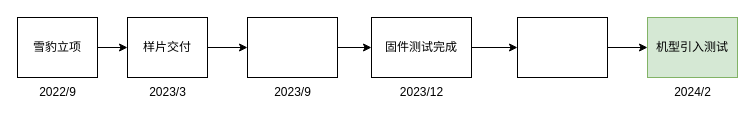
The diagram is 755 pixels wide and 125 high, and some of its shapes have lost their labels. Each missing label, with the centre of its shape:
"硬件测试完成" belongs at [292,47].
"试生产" belongs at [562,47].
